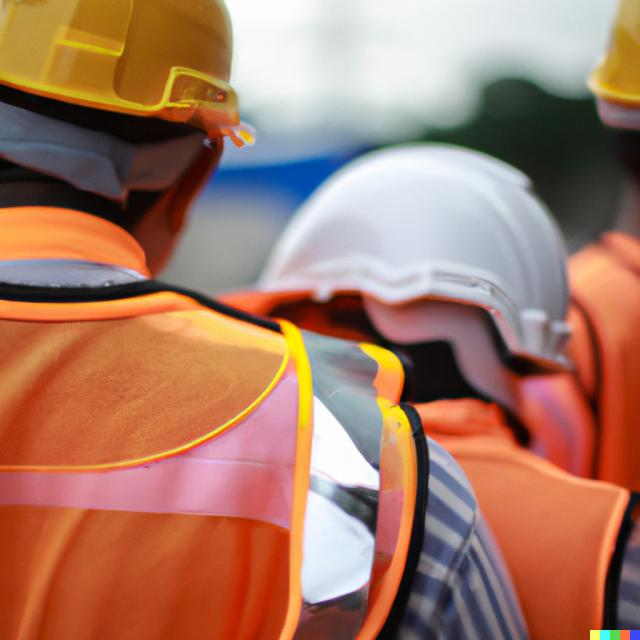Reflective-Jacket: (1, 287, 432, 640)
Safety-Helmet: (254, 136, 575, 371), (1, 2, 255, 142), (583, 1, 639, 111)
